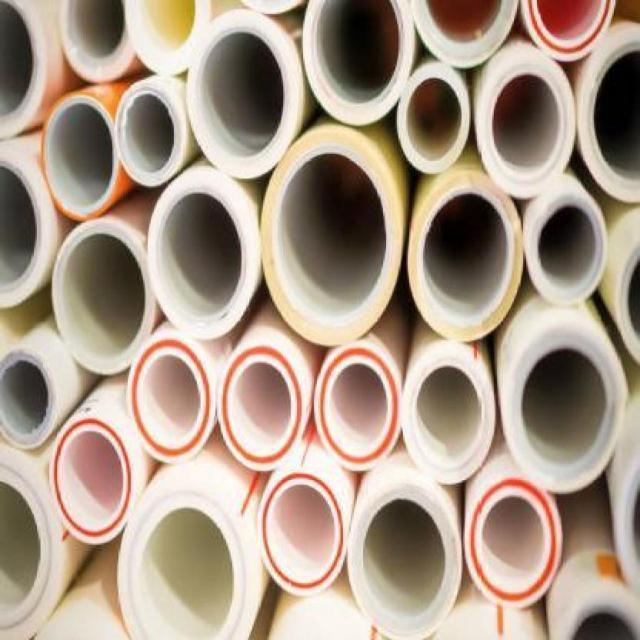pipe: (260, 129, 402, 348), (117, 487, 250, 640), (504, 328, 626, 493), (408, 176, 525, 342), (187, 11, 301, 179), (347, 483, 461, 639), (147, 184, 255, 340), (52, 221, 155, 376), (475, 48, 577, 198), (301, 0, 414, 127), (401, 344, 497, 486), (463, 477, 563, 610), (577, 23, 640, 205), (257, 470, 347, 595), (315, 341, 400, 473), (49, 416, 134, 546), (128, 336, 213, 464), (218, 345, 303, 470), (40, 91, 120, 221), (526, 193, 609, 307), (0, 453, 52, 629), (397, 64, 469, 174), (409, 0, 519, 69), (115, 83, 183, 185), (123, 0, 211, 77), (0, 0, 46, 138), (0, 157, 43, 303), (0, 345, 57, 450), (522, 0, 615, 62)
